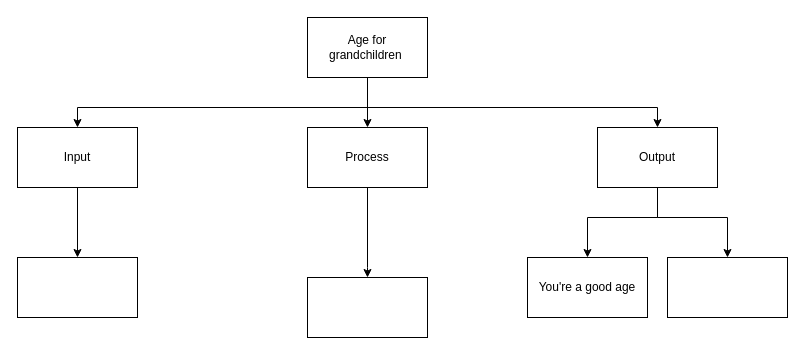
Some shapes in this 805 by 355 pixel diagram are drawn without their labels. The centre of each missing label's shape, as x and y in pixels:
"Check if age 25 >= or if age <= 40" goes at point 367,307.
"Enter Your guess_number" goes at point 77,287.
"You're a bad age" goes at point 727,287.
